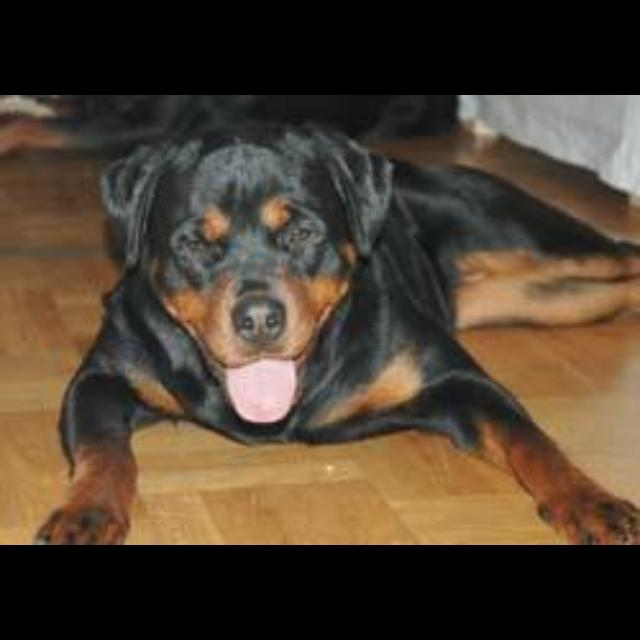rottweiler: (32, 120, 638, 544)
